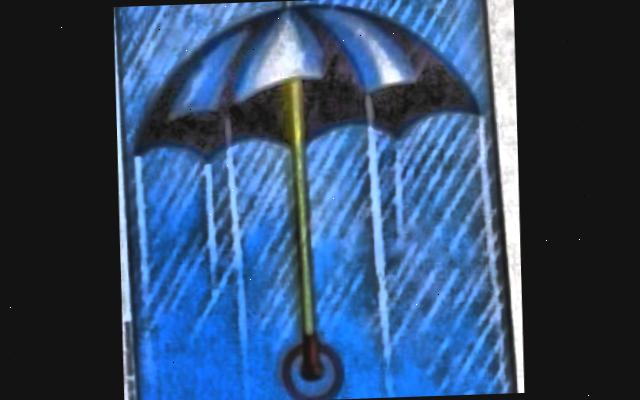El Paraguas: (118, 0, 514, 400)
